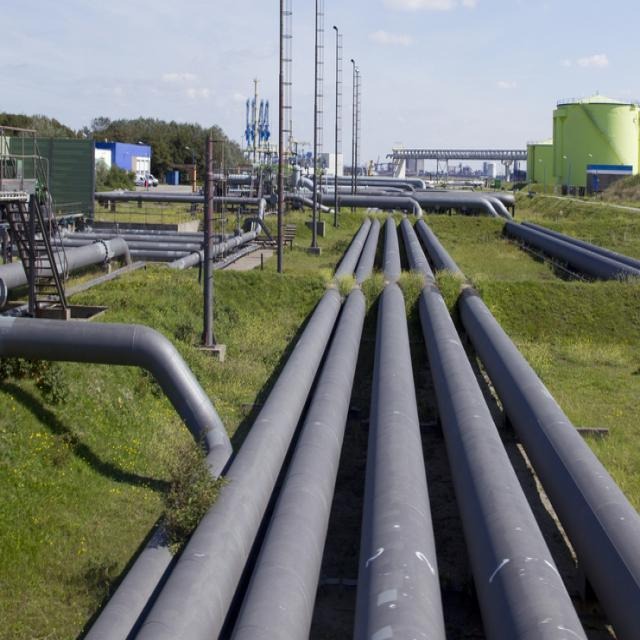gas: (132, 220, 380, 639), (401, 219, 572, 640), (459, 284, 640, 632), (354, 218, 445, 639), (416, 220, 465, 281)
